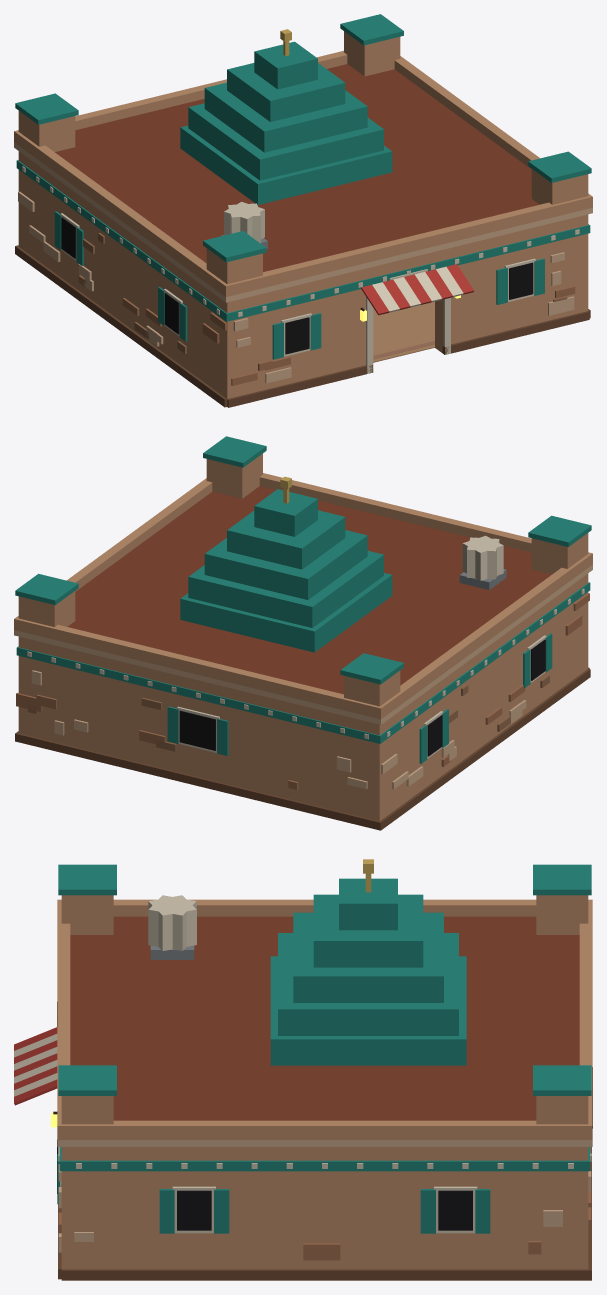
The model's file is dd_big_a.glb.
3 views of the same model, one above another, from view 1: azimuth 30°, elevation 25°; view 2: azimuth 150°, elevation 25°; view 3: azimuth 270°, elevation 25° (orthographic). The views are drawn at different scales.
Parts seen in each view (by area): view 1: DUBG_dd_big_a_roof, DUBG_dd_big_a; view 2: DUBG_dd_big_a_roof, DUBG_dd_big_a; view 3: DUBG_dd_big_a_roof, DUBG_dd_big_a.
Part boxes in pixels (x1,y1,x2,y2): DUBG_dd_big_a_roof: (14,14,592,302); DUBG_dd_big_a: (15,151,590,407); DUBG_dd_big_a_roof: (14,436,592,724); DUBG_dd_big_a: (15,573,590,830); DUBG_dd_big_a_roof: (57,859,592,1146); DUBG_dd_big_a: (14,1002,592,1280).
Size of the model in its own units: 24.62 by 15.52 by 26.59.
